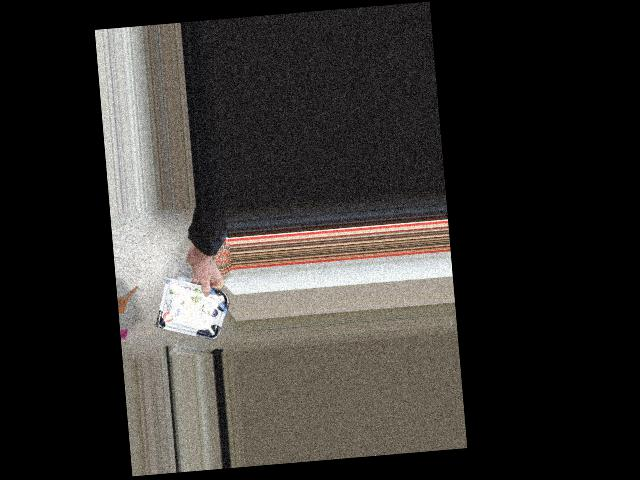cheese: (161, 285, 228, 336)
